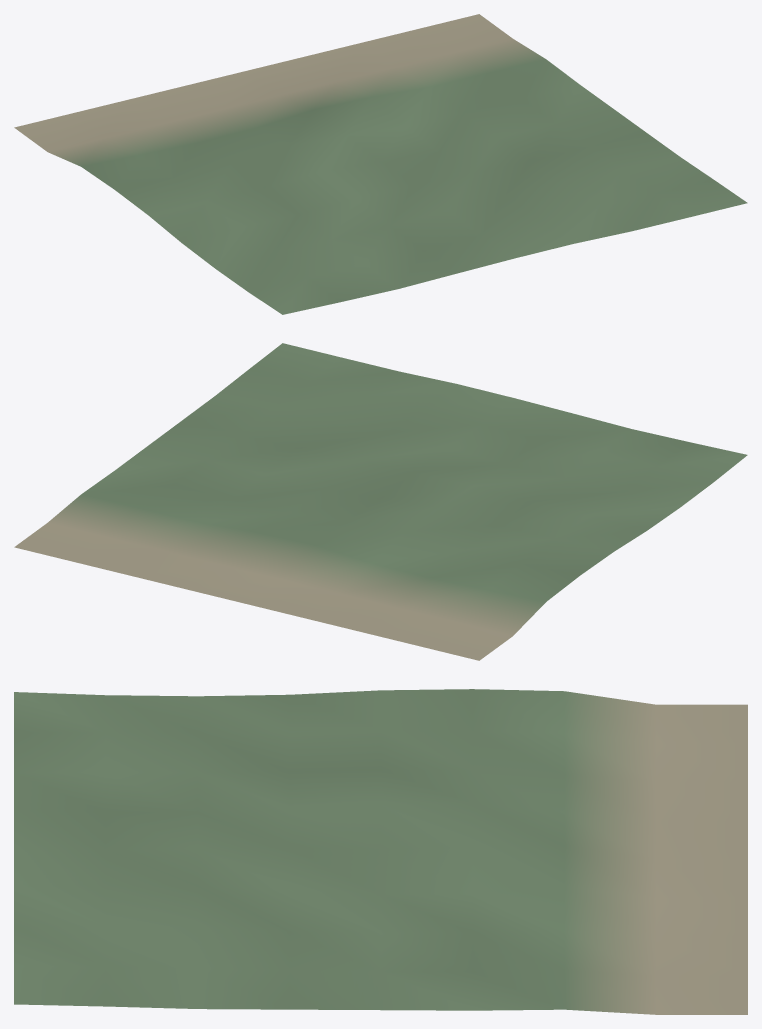
The picture shows the model from 3 angles, top to bottom: view 1: azimuth 30°, elevation 25°; view 2: azimuth 150°, elevation 25°; view 3: azimuth 270°, elevation 25°; orthographic projection. The views are drawn at different scales.
Visible parts, largest first — view 1: Lo; view 2: Lo; view 3: Lo.
Part boxes in pixels (box(x1,y1,x2,y2)): Lo: box(14, 14, 747, 314); Lo: box(14, 343, 747, 660); Lo: box(14, 689, 747, 1014).
Size of the model in its own units: 256 by 6.74 by 256.
